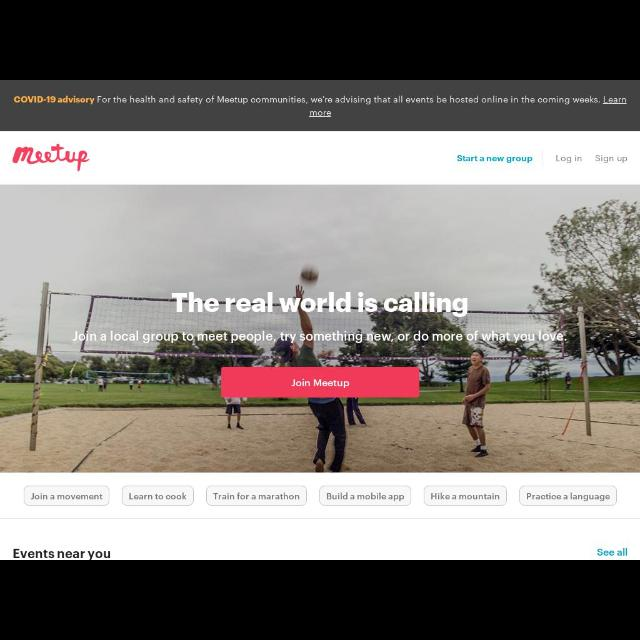backgroundimage: (1, 184, 640, 472)
iframe: (1, 81, 640, 131)
image: (12, 144, 90, 172)
text: (172, 292, 468, 316), (72, 331, 568, 344), (14, 95, 628, 105), (14, 548, 110, 560), (526, 492, 610, 502), (326, 492, 404, 502), (458, 154, 532, 164), (212, 492, 300, 500), (31, 492, 104, 500), (291, 379, 349, 389), (431, 492, 499, 500), (129, 492, 187, 500), (595, 154, 627, 164), (556, 154, 582, 164), (597, 548, 627, 556), (308, 110, 332, 118)
textbutton: (222, 367, 420, 398), (206, 486, 308, 506), (519, 486, 617, 506), (319, 486, 411, 506), (24, 486, 110, 506), (425, 486, 507, 506), (122, 485, 194, 505)
toolbar: (1, 130, 640, 183)
